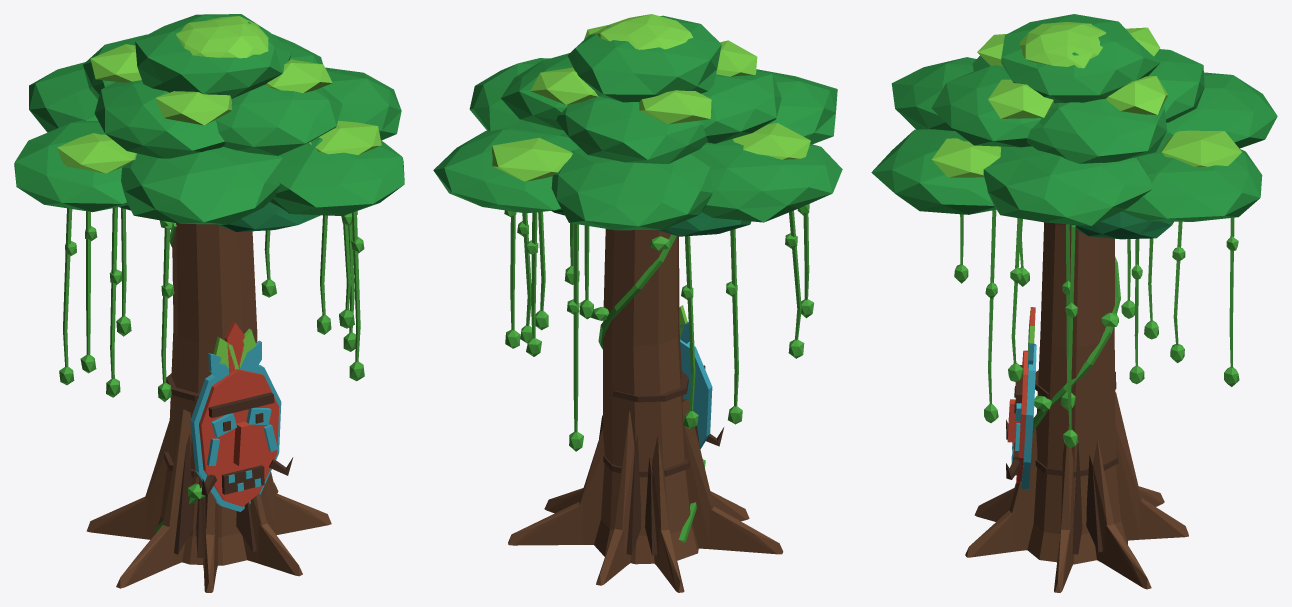
The model's file is Jungle_1_GiantTree.fbx.
3 views of the same model, side by side, from view 1: azimuth 30°, elevation 25°; view 2: azimuth 150°, elevation 25°; view 3: azimuth 270°, elevation 25° (orthographic).
Parts seen in each view (by area): view 1: Jungle_1_GiantTree__Jungle_Leaf, Jungle_1_GiantTree__Jungle_Trunk, Jungle_1_GiantTree__Jungle_LeafLight, Jungle_1_GiantTree__Jungle_Vine, Jungle_1_GiantTree__Jungle_Totem, Jungle_1_GiantTree__Jungle_TrunkDark, Jungle_1_GiantTree__Jungle_TotemAlt, Jungle_1_GiantTree__Jungle_LeafDark; view 2: Jungle_1_GiantTree__Jungle_Leaf, Jungle_1_GiantTree__Jungle_Trunk, Jungle_1_GiantTree__Jungle_LeafLight, Jungle_1_GiantTree__Jungle_Vine, Jungle_1_GiantTree__Jungle_TrunkDark, Jungle_1_GiantTree__Jungle_TotemAlt, Jungle_1_GiantTree__Jungle_LeafDark; view 3: Jungle_1_GiantTree__Jungle_Leaf, Jungle_1_GiantTree__Jungle_Trunk, Jungle_1_GiantTree__Jungle_LeafLight, Jungle_1_GiantTree__Jungle_Vine, Jungle_1_GiantTree__Jungle_TrunkDark, Jungle_1_GiantTree__Jungle_LeafDark, Jungle_1_GiantTree__Jungle_TotemAlt, Jungle_1_GiantTree__Jungle_Totem.
Boxes of the visible parts, x1,y1,x2,y2 form: Jungle_1_GiantTree__Jungle_Leaf: (14,14,404,224); Jungle_1_GiantTree__Jungle_Trunk: (86,223,331,592); Jungle_1_GiantTree__Jungle_LeafLight: (57,16,381,369); Jungle_1_GiantTree__Jungle_Vine: (59,207,364,532); Jungle_1_GiantTree__Jungle_Totem: (199,321,279,506); Jungle_1_GiantTree__Jungle_TrunkDark: (164,373,293,557); Jungle_1_GiantTree__Jungle_TotemAlt: (190,340,281,511); Jungle_1_GiantTree__Jungle_LeafDark: (119,202,320,231); Jungle_1_GiantTree__Jungle_Leaf: (433,15,842,230); Jungle_1_GiantTree__Jungle_Trunk: (508,229,783,592); Jungle_1_GiantTree__Jungle_LeafLight: (492,14,810,338); Jungle_1_GiantTree__Jungle_Vine: (504,204,813,542); Jungle_1_GiantTree__Jungle_TrunkDark: (599,365,723,555); Jungle_1_GiantTree__Jungle_TotemAlt: (679,322,712,449); Jungle_1_GiantTree__Jungle_LeafDark: (552,209,751,236); Jungle_1_GiantTree__Jungle_Leaf: (871,14,1277,225); Jungle_1_GiantTree__Jungle_Trunk: (965,222,1188,592); Jungle_1_GiantTree__Jungle_LeafLight: (931,22,1241,359); Jungle_1_GiantTree__Jungle_Vine: (954,210,1239,448); Jungle_1_GiantTree__Jungle_TrunkDark: (1006,365,1118,554); Jungle_1_GiantTree__Jungle_LeafDark: (1065,211,1173,239); Jungle_1_GiantTree__Jungle_TotemAlt: (1011,320,1036,489); Jungle_1_GiantTree__Jungle_Totem: (1007,307,1035,483).
Bounding box in the file's own units: 90.27 × 121 × 87.15.
